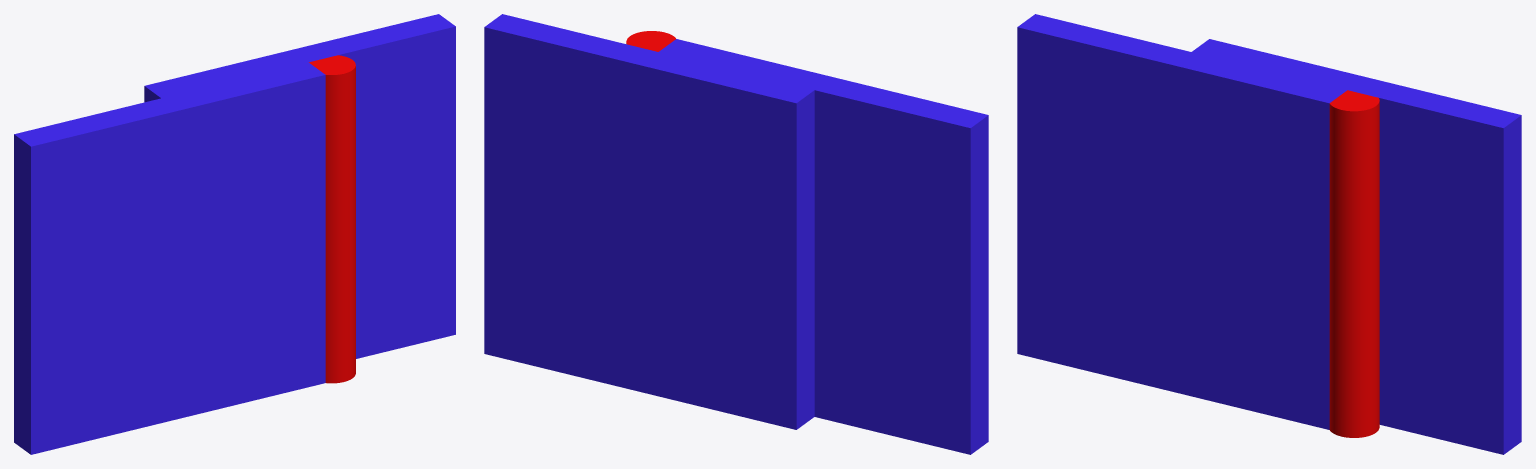
File: lap joint v1.fbx
3 views of the same model, side by side, from view 1: azimuth 30°, elevation 25°; view 2: azimuth 150°, elevation 25°; view 3: azimuth 330°, elevation 25° (orthographic). The views are drawn at different scales.
Parts seen in each view (by area): view 1: Body3, Body1, Body2; view 2: Body1, Body3, Body2; view 3: Body3, Body1, Body2.
Boxes of the visible parts, x1,y1,x2,y2 form: Body3: (14, 62, 325, 454); Body1: (144, 14, 455, 358); Body2: (309, 55, 355, 383); Body1: (484, 14, 814, 429); Body3: (659, 39, 988, 454); Body2: (626, 31, 675, 51); Body3: (1017, 14, 1347, 429); Body1: (1192, 39, 1521, 454); Body2: (1329, 90, 1379, 437).
Size of the model in its own units: 381 by 254 by 56.06.
